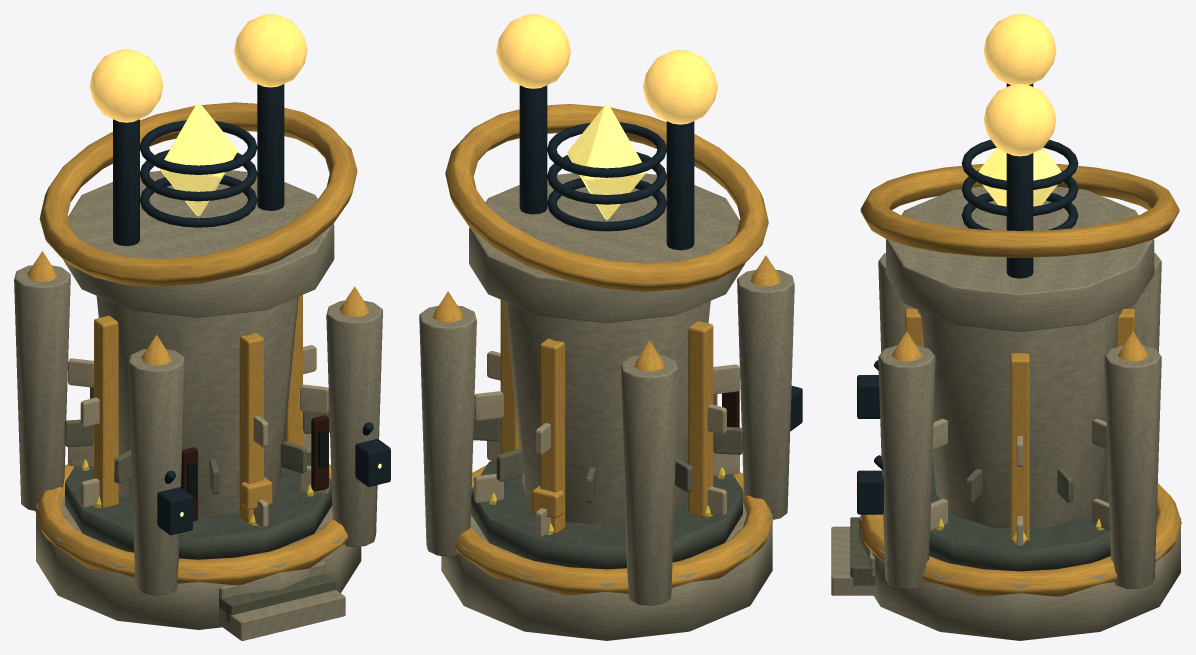
The model's file is tower-thunder-2-base.glb.
3 views of the same model, side by side, from view 1: azimuth 30°, elevation 25°; view 2: azimuth 150°, elevation 25°; view 3: azimuth 270°, elevation 25° (orthographic). The views are drawn at different scales.
Visible parts, largest first — view 1: Foundation, Turret, thunder-L2-base; view 2: Foundation, Turret, thunder-L2-base; view 3: Foundation, Turret, thunder-L2-base.
Boxes of the visible parts, x1,y1,x2,y2 form: Foundation: (14,251,390,640); Turret: (39,14,357,317); thunder-L2-base: (36,453,361,629); Foundation: (419,255,802,605); Turret: (445,14,768,323); thunder-L2-base: (441,460,772,640); Foundation: (831,253,1181,596); Turret: (860,14,1179,331); thunder-L2-base: (859,457,1180,640).
Size of the model in its own units: 1.69 by 3 by 1.83.
13 materials, 13 textured.
